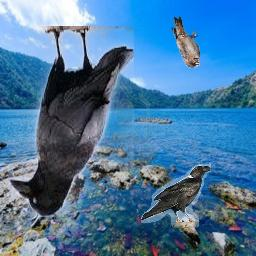Crow: (8, 27, 134, 218), (141, 164, 211, 228)
Swallow: (170, 16, 200, 68)
